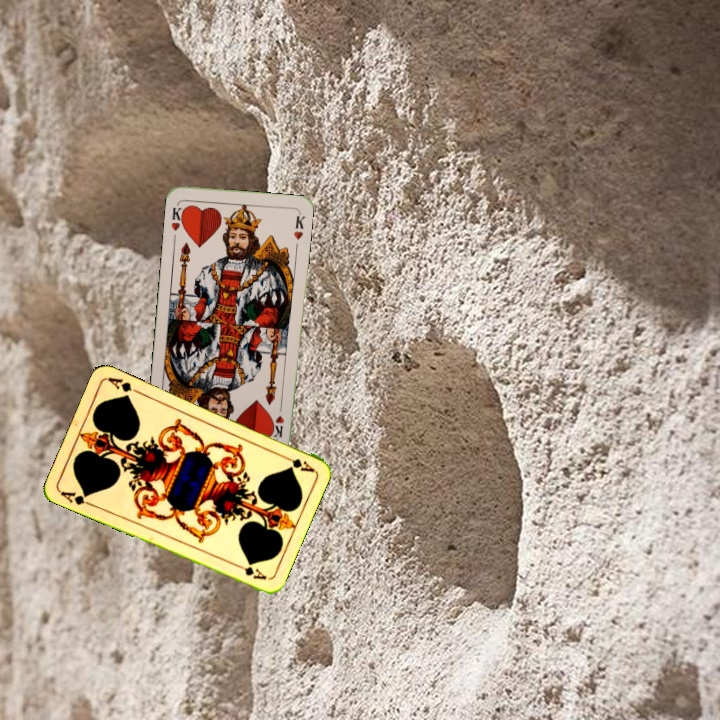GA: (277, 451, 316, 475), (56, 487, 96, 509)
HK: (167, 203, 188, 234), (270, 398, 286, 438)
